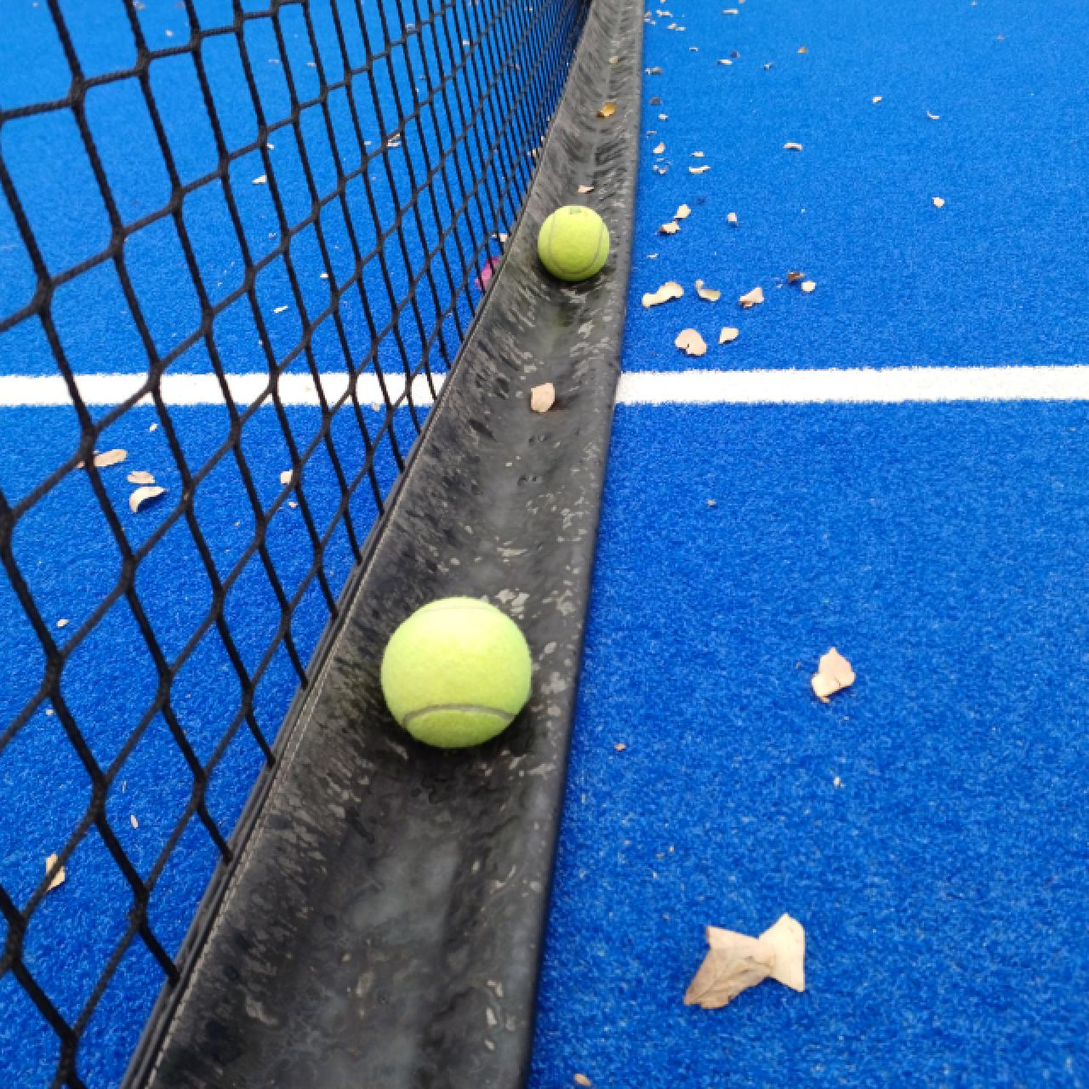tennis-ball: (381, 594, 534, 750), (537, 203, 611, 281)
